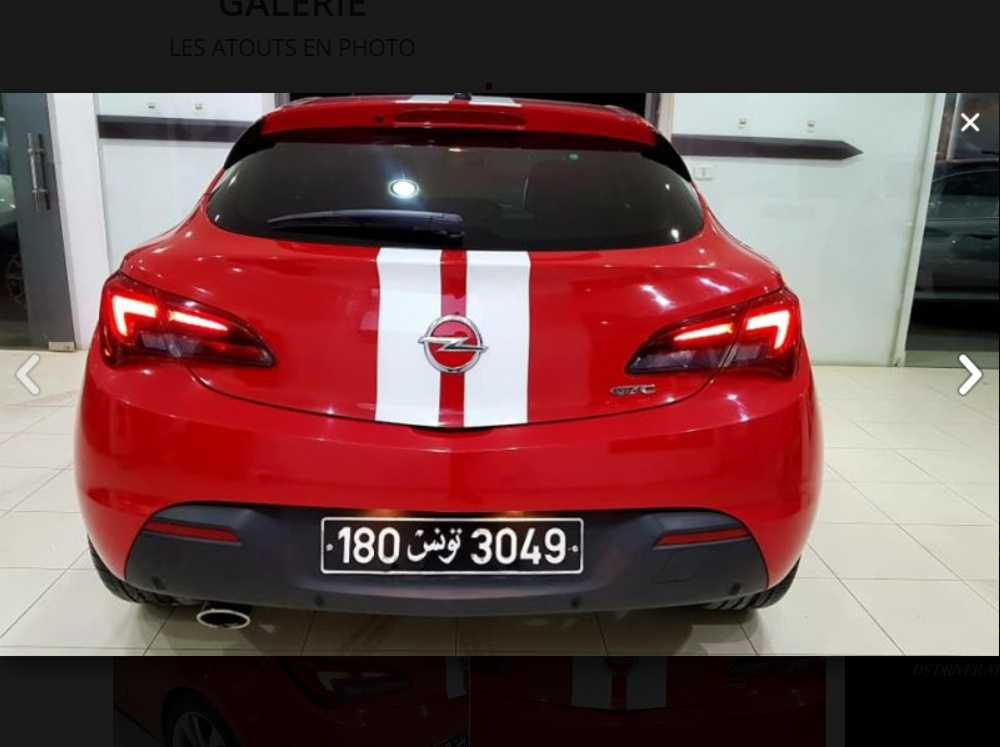LP: (317, 517, 596, 582)
